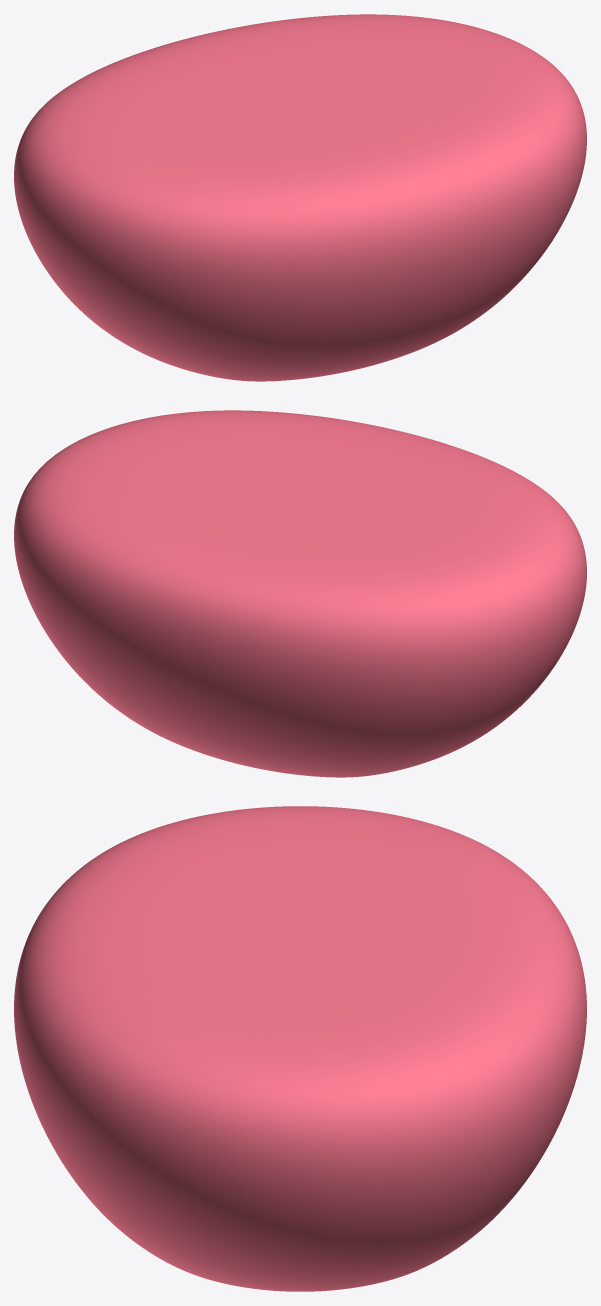
Rendered from CUERPO_INF_M.glb.
The picture shows the model from 3 angles, top to bottom: view 1: azimuth 30°, elevation 25°; view 2: azimuth 150°, elevation 25°; view 3: azimuth 270°, elevation 25°; orthographic projection. The views are drawn at different scales.
Parts seen in each view (by area): view 1: Cube.070; view 2: Cube.070; view 3: Cube.070.
Part boxes in pixels (box(x1,y1,x2,y2)): Cube.070: box(14, 14, 586, 381); Cube.070: box(14, 410, 586, 777); Cube.070: box(14, 806, 586, 1291).
Size of the model in its own units: 1.98 by 0.9151 by 1.55.
